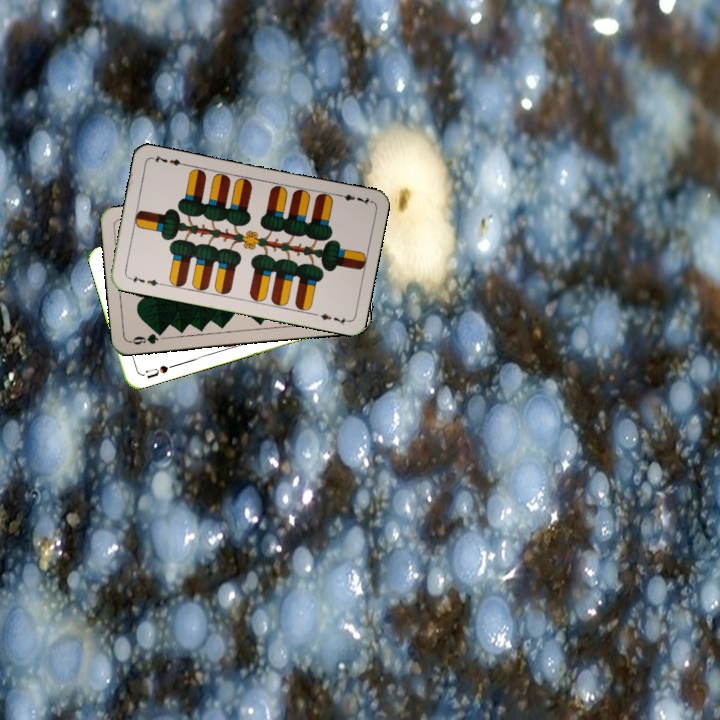E7: (124, 271, 165, 289), (333, 190, 373, 208)
G9: (126, 327, 166, 347)
SU: (142, 361, 177, 381)
